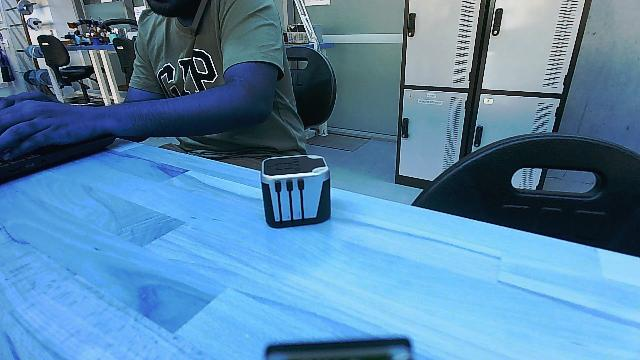adapter: (258, 152, 334, 228)
